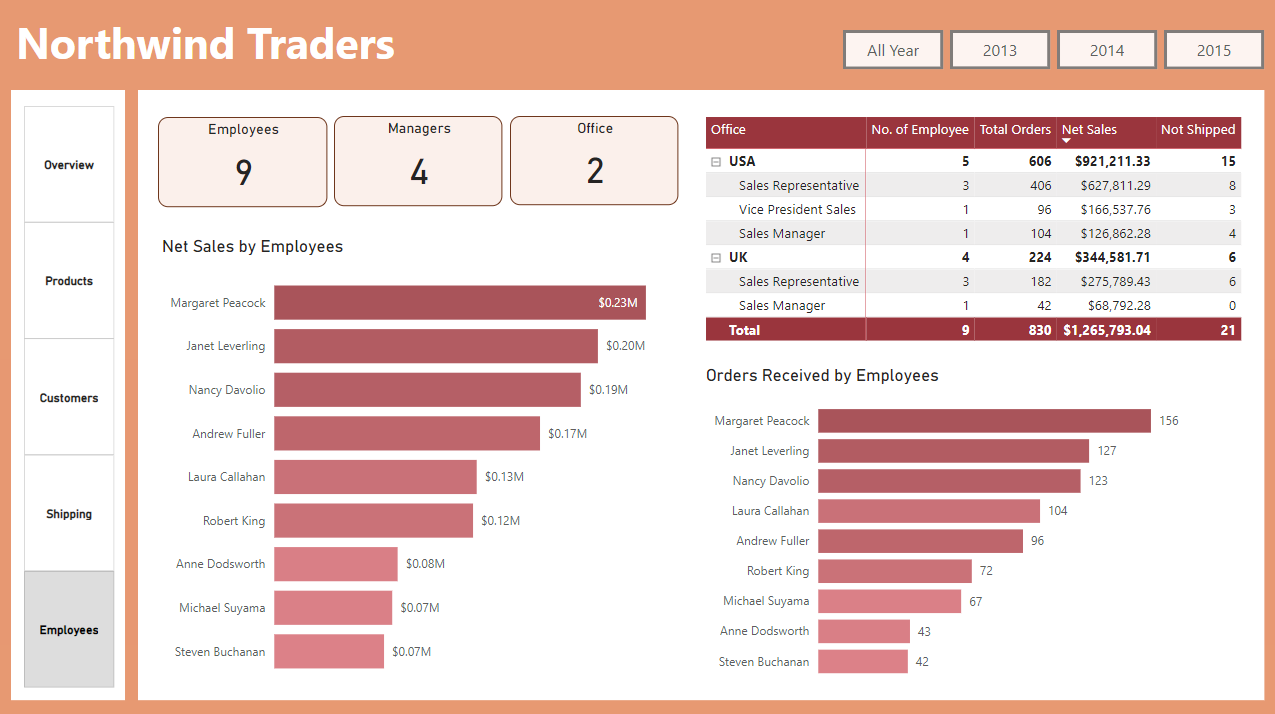

The page's visual inventory and layout, read from the dashboard file:
{"tool":"powerbi","page":{"name":"Employees","canvas":[1280,720],"ordinal":4},"visuals":[{"type":"textbox","box":[15.1,12.8,676,82.5],"z":0},{"type":"shape","box":[15,95,113.8,608.8],"z":1000},{"type":"pageNavigator","box":[27.9,110.3,90.6,584.2],"z":2000},{"type":"actionButton","box":[845,35,100,39.4],"z":3000},{"type":"actionButton","box":[951.4,35,100,39.3],"z":4000},{"type":"actionButton","box":[1058.6,35,100,39.3],"z":5000},{"type":"actionButton","box":[1165,34.8,99.9,39.5],"z":6000},{"type":"shape","box":[141.2,95,1123.8,608.8],"z":7000},{"type":"card","title":"Employees","fields":{"Values":["Count(employees.employeeName)"]},"box":[161.2,121.2,168.8,90],"z":8000},{"type":"card","title":"Managers","fields":{"Values":["Count(employees.managerName)"]},"box":[337.3,120.9,168.2,90],"z":9000},{"type":"card","title":"Office","fields":{"Values":["Count(employees.country)"]},"box":[512.7,120.9,168.2,89.1],"z":10000},{"type":"barChart","title":"Net Sales by Employees","fields":{"Y":["_measures.Net Sales"],"Category":["employees.employeeName"]},"box":[160.9,240.9,520,454.5],"z":11000},{"type":"pivotTable","fields":{"Values":["Count(employees.employeeName)","_measures.Total Orders","_measures.Net Sales","_measures.Not Shipped"],"Rows":["employees.country","employees.title"]},"box":[703.8,116.2,547.5,235],"z":12000},{"type":"barChart","title":"Orders Received by Employees","fields":{"Category":["employees.employeeName"],"Y":["_measures.Total Orders"]},"box":[703.8,368.8,547.5,325],"z":13000}]}

Visuals, with their boxes in screenshot pixels (x1, y1, x2, y2), scaled from the page's 1280x720 canvas onto the 1275x714 screenshot:
textbox: x1=15 y1=13 x2=688 y2=95
shape: x1=15 y1=94 x2=128 y2=698
pageNavigator: x1=28 y1=109 x2=118 y2=689
actionButton: x1=842 y1=35 x2=941 y2=74
actionButton: x1=948 y1=35 x2=1047 y2=74
actionButton: x1=1054 y1=35 x2=1154 y2=74
actionButton: x1=1160 y1=35 x2=1260 y2=74
shape: x1=141 y1=94 x2=1260 y2=698
"Employees" card: x1=161 y1=120 x2=329 y2=209
"Managers" card: x1=336 y1=120 x2=504 y2=209
"Office" card: x1=511 y1=120 x2=678 y2=208
"Net Sales by Employees" barChart: x1=160 y1=239 x2=678 y2=690
pivotTable - Count(employees.employeeName) x _measures.Total Orders: x1=701 y1=115 x2=1246 y2=348
"Orders Received by Employees" barChart: x1=701 y1=366 x2=1246 y2=688
